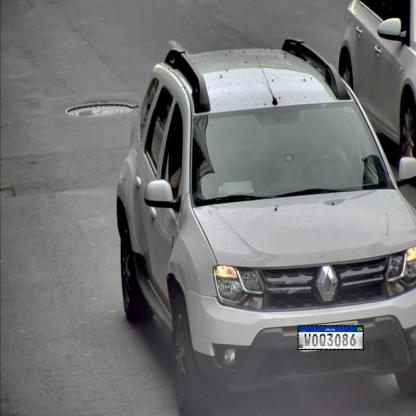PlacaM: (297, 325, 364, 350)
